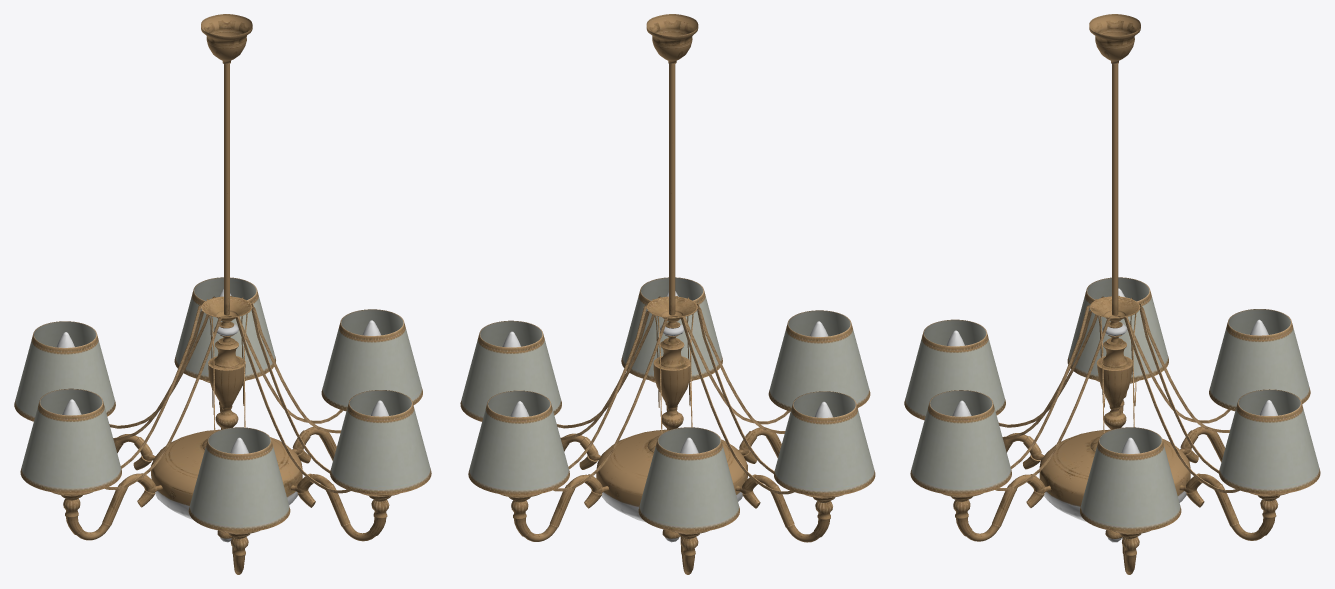
File: Chandelier_02_1k.gltf
3 renders of one model, left to right at view 1: azimuth 30°, elevation 25°; view 2: azimuth 150°, elevation 25°; view 3: azimuth 270°, elevation 25°, orthographic.
Parts seen in each view (by area): view 1: Chandelier_02; view 2: Chandelier_02; view 3: Chandelier_02.
Part boxes in pixels (x1,y1,x2,y2): Chandelier_02: [14, 14, 431, 574]; Chandelier_02: [460, 14, 875, 574]; Chandelier_02: [904, 14, 1320, 574].
Size of the model in its own units: 0.679 by 0.8481 by 0.6191.
Materials: 2 (1 with a texture image).
